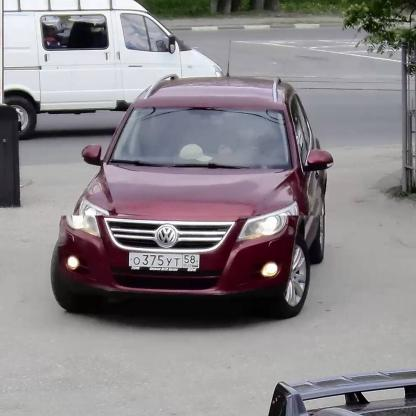plate: (129, 252, 200, 270)
